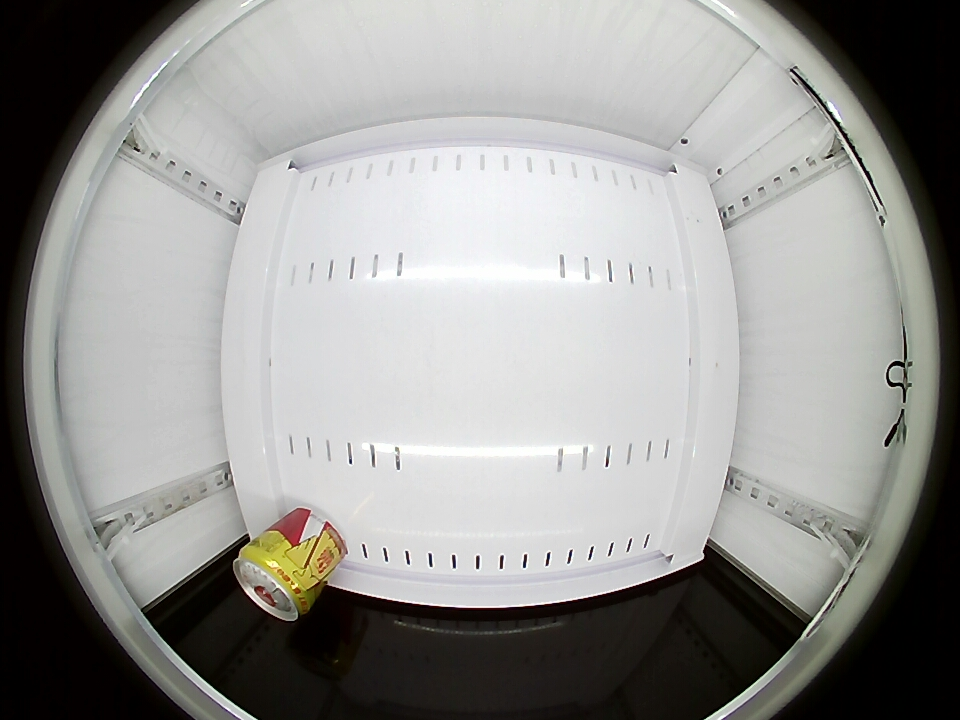dongpeng: (234, 543, 313, 622)
